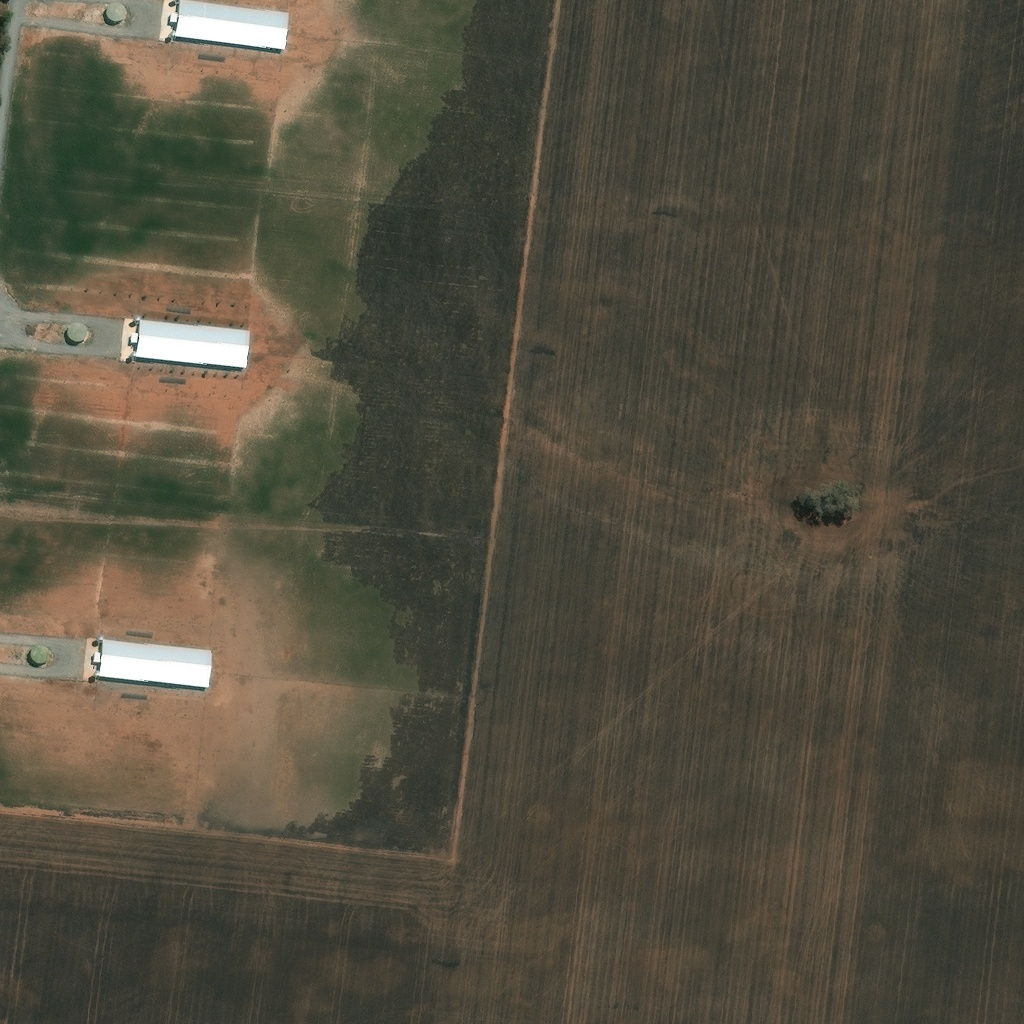0 no-damage: (124, 316, 251, 368), (170, 0, 289, 50), (93, 638, 213, 686), (67, 319, 88, 340), (31, 643, 50, 663), (107, 3, 125, 20)
